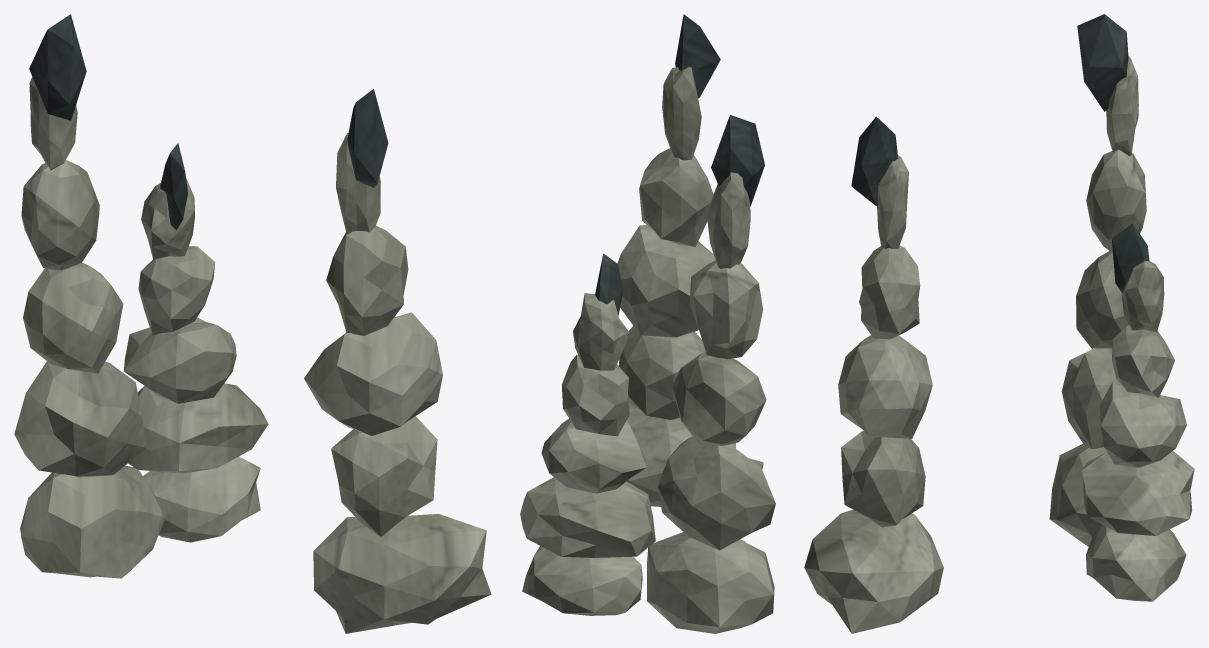
Rendered from 0071_rock_spire_21.glb.
3 views of the same model, side by side, from view 1: azimuth 30°, elevation 25°; view 2: azimuth 150°, elevation 25°; view 3: azimuth 270°, elevation 25° (orthographic). The views are drawn at different scales.
Parts seen in each view (by area): view 1: stone_light, stone_dark; view 2: stone_light, stone_dark; view 3: stone_light, stone_dark.
Boxes of the visible parts, <box> form: stone_light: <box>14,77,491,633</box>; stone_dark: <box>29,14,388,230</box>; stone_light: <box>520,67,775,633</box>; stone_dark: <box>595,14,764,315</box>; stone_light: <box>804,55,1194,633</box>; stone_dark: <box>851,14,1149,292</box>.
Size of the model in its own units: 1.53 by 2.49 by 1.71.
2 materials, 2 textured.
